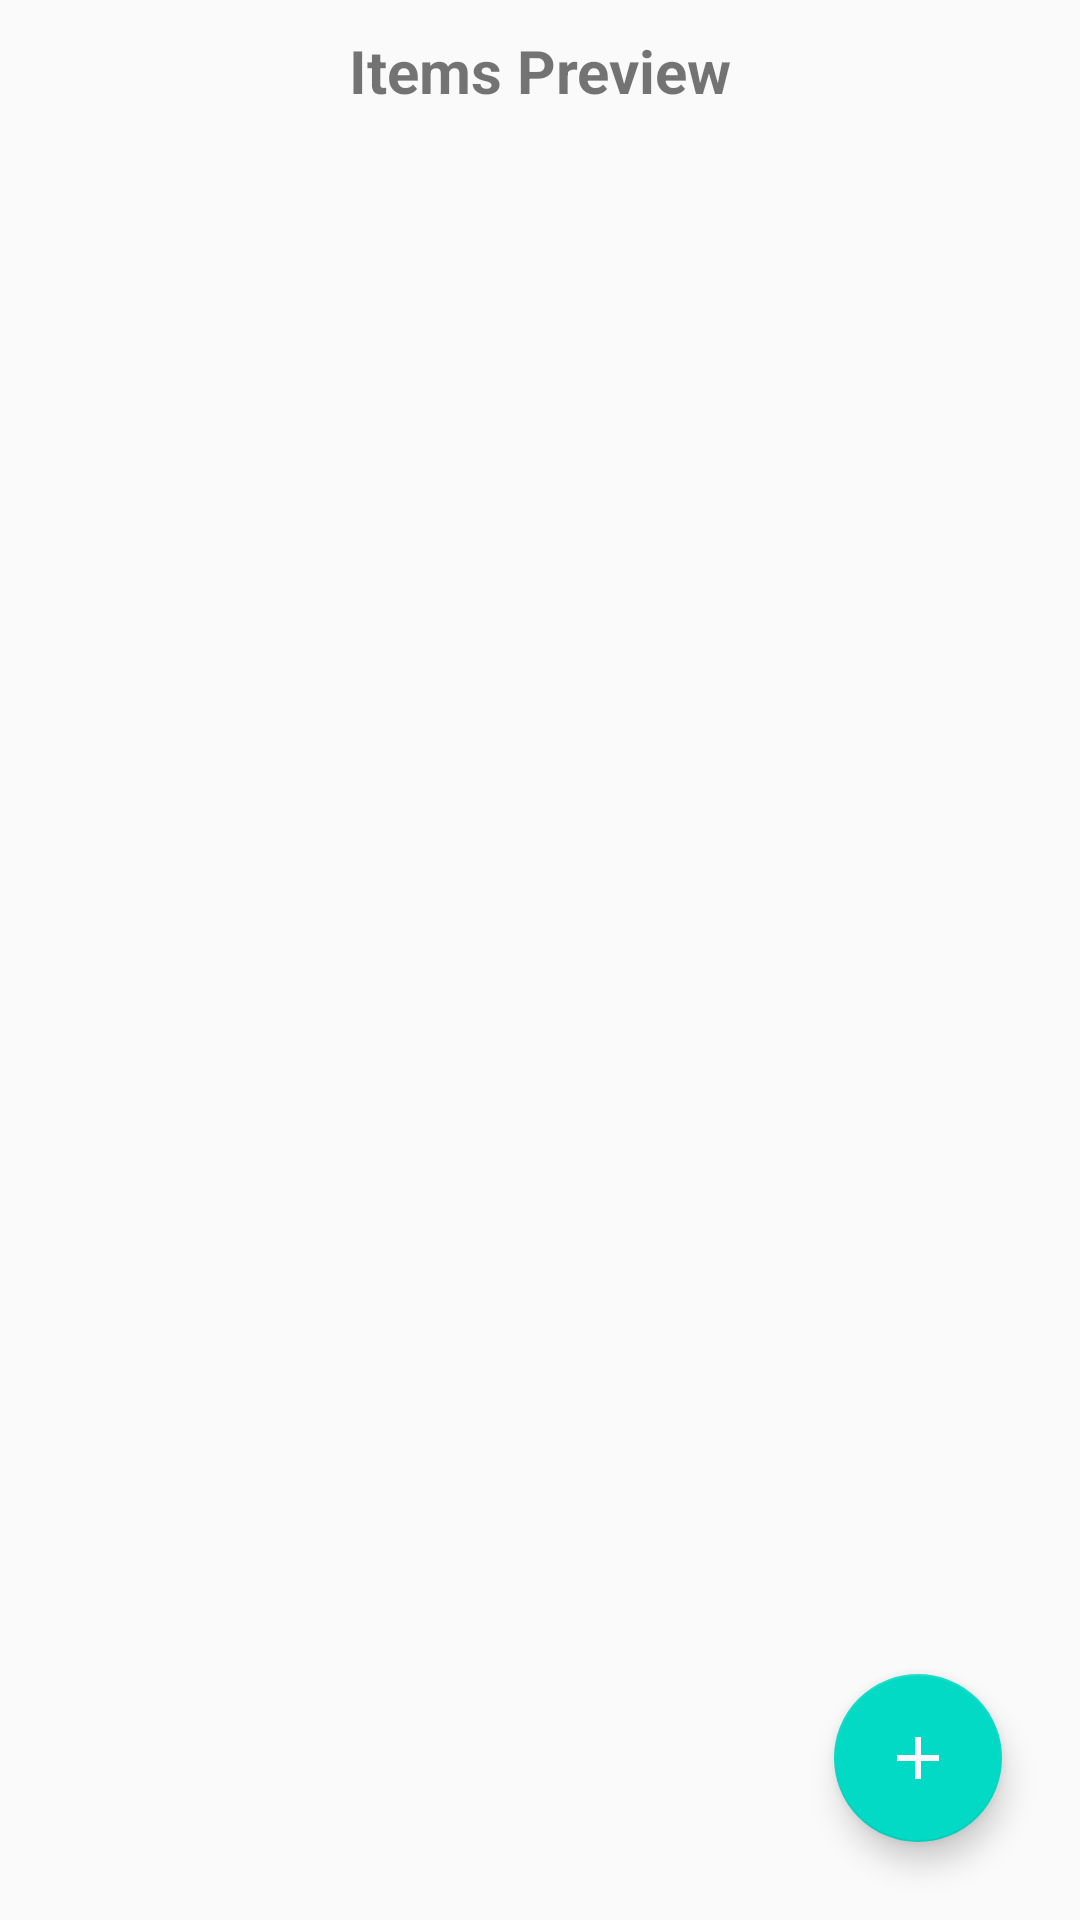

Screen size 1080 x 1920. Icon name, then its center in pixels as (x,y):
add item: (918,1758)
